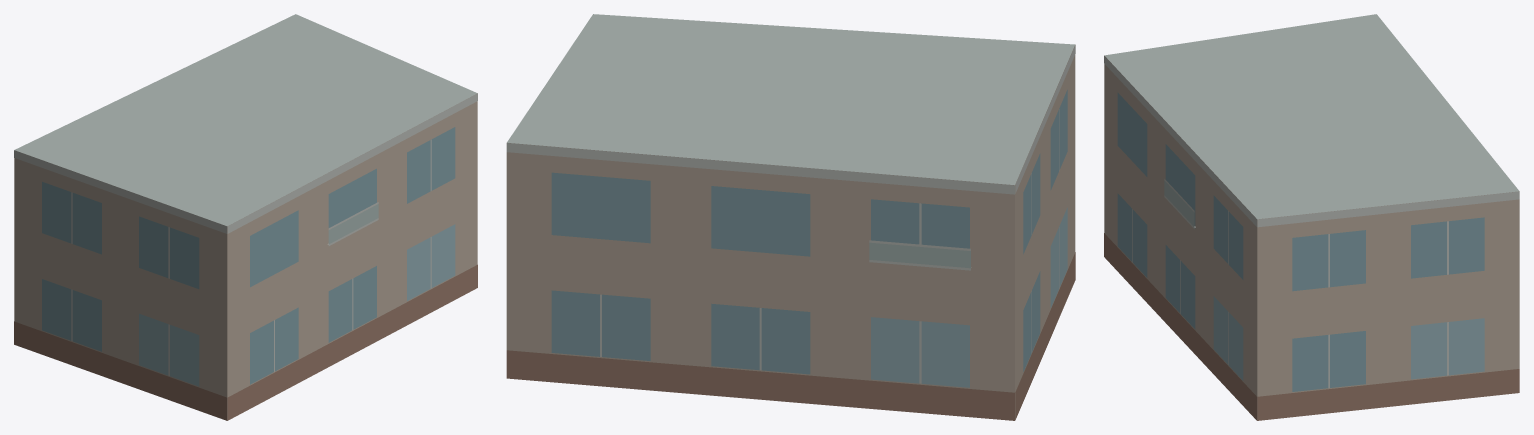
The model's file is survey-upis-32843102.glb.
The picture shows the model from 3 angles, left to right: view 1: azimuth 30°, elevation 25°; view 2: azimuth 150°, elevation 25°; view 3: azimuth 270°, elevation 25°; orthographic projection. The views are drawn at different scales.
Visible parts, largest first — view 1: survey-upis-32843102.tmp; view 2: survey-upis-32843102.tmp; view 3: survey-upis-32843102.tmp.
Boxes of the visible parts, x1,y1,x2,y2 form: survey-upis-32843102.tmp: (14, 14, 477, 420); survey-upis-32843102.tmp: (506, 14, 1075, 420); survey-upis-32843102.tmp: (1104, 14, 1519, 420).
Size of the model in its own units: 13.33 by 6.1 by 11.41.
